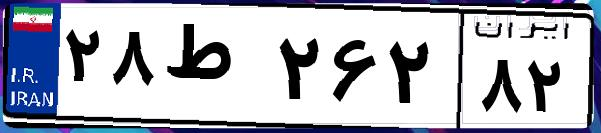2: (270, 28, 330, 110), (385, 28, 445, 110), (57, 26, 110, 100), (525, 38, 570, 115)
6: (330, 28, 385, 110)
8: (475, 38, 525, 113), (110, 28, 158, 98)
ط: (158, 20, 270, 120)
